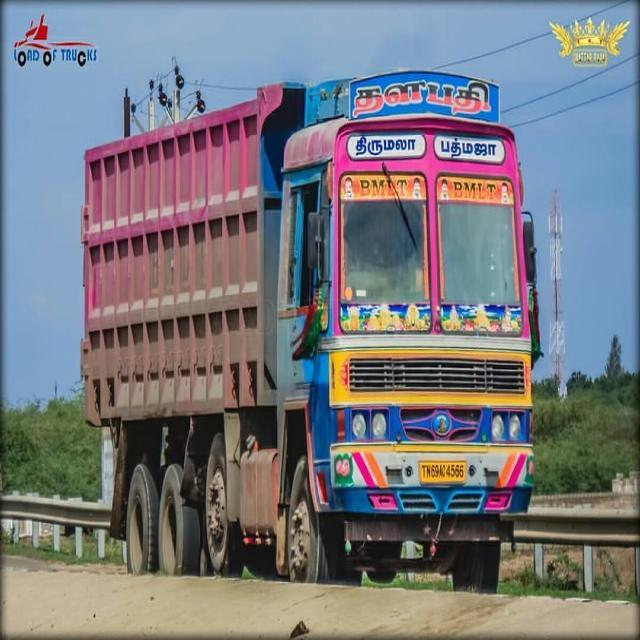Truck: (75, 68, 547, 592)
